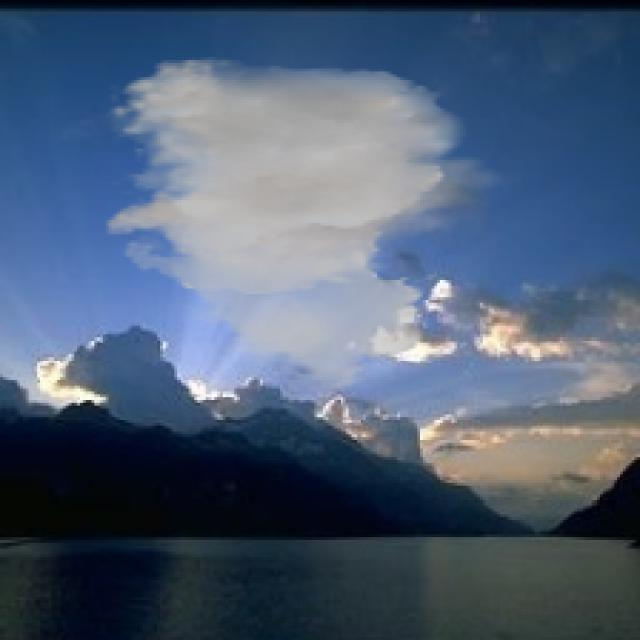Smoke: (102, 57, 512, 400)
